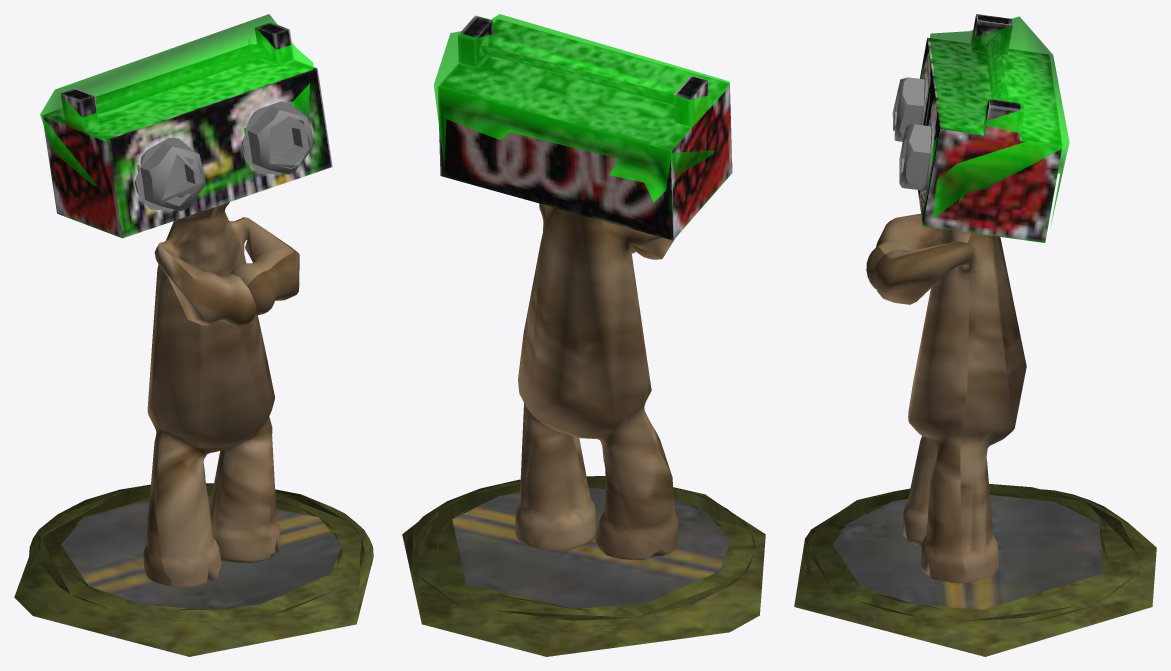
The model's file is out_bOOBOXBODY_Mat_1_Mat_1.baked.001_LOD1_107_LOD.glb.
3 views of the same model, side by side, from view 1: azimuth 30°, elevation 25°; view 2: azimuth 150°, elevation 25°; view 3: azimuth 270°, elevation 25° (orthographic). The views are drawn at different scales.
Visible parts, largest first — view 1: bOOBOXBODY_Mat_1_Mat_1.baked.001_LOD1; view 2: bOOBOXBODY_Mat_1_Mat_1.baked.001_LOD1; view 3: bOOBOXBODY_Mat_1_Mat_1.baked.001_LOD1.
Part boxes in pixels (x1,y1,x2,y2): bOOBOXBODY_Mat_1_Mat_1.baked.001_LOD1: (14, 14, 373, 656); bOOBOXBODY_Mat_1_Mat_1.baked.001_LOD1: (402, 14, 765, 656); bOOBOXBODY_Mat_1_Mat_1.baked.001_LOD1: (794, 14, 1156, 656).
Bounding box in the file's own units: 1.45 × 2.12 × 1.35.
6 materials, 4 textured.
